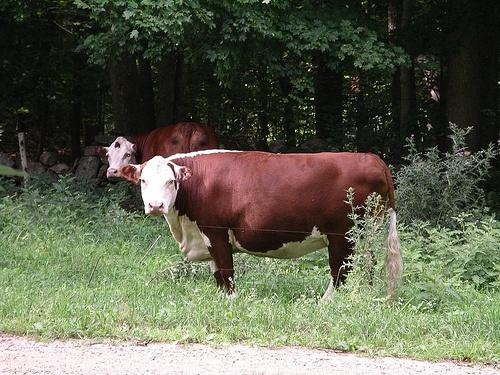cow: (125, 149, 403, 294), (100, 124, 218, 183)
